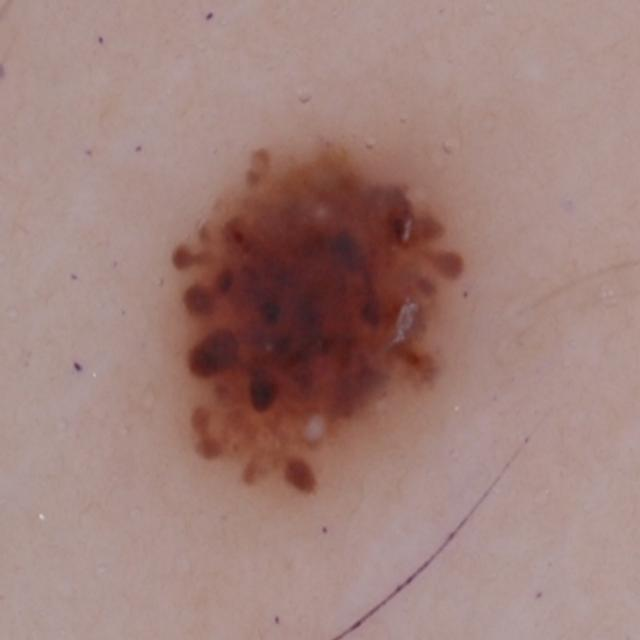Benign: (142, 132, 472, 518)
